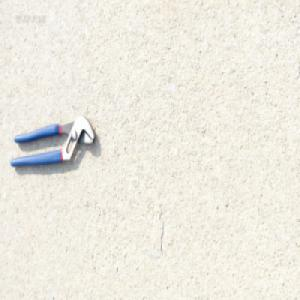Pliers: (8, 114, 95, 168)
